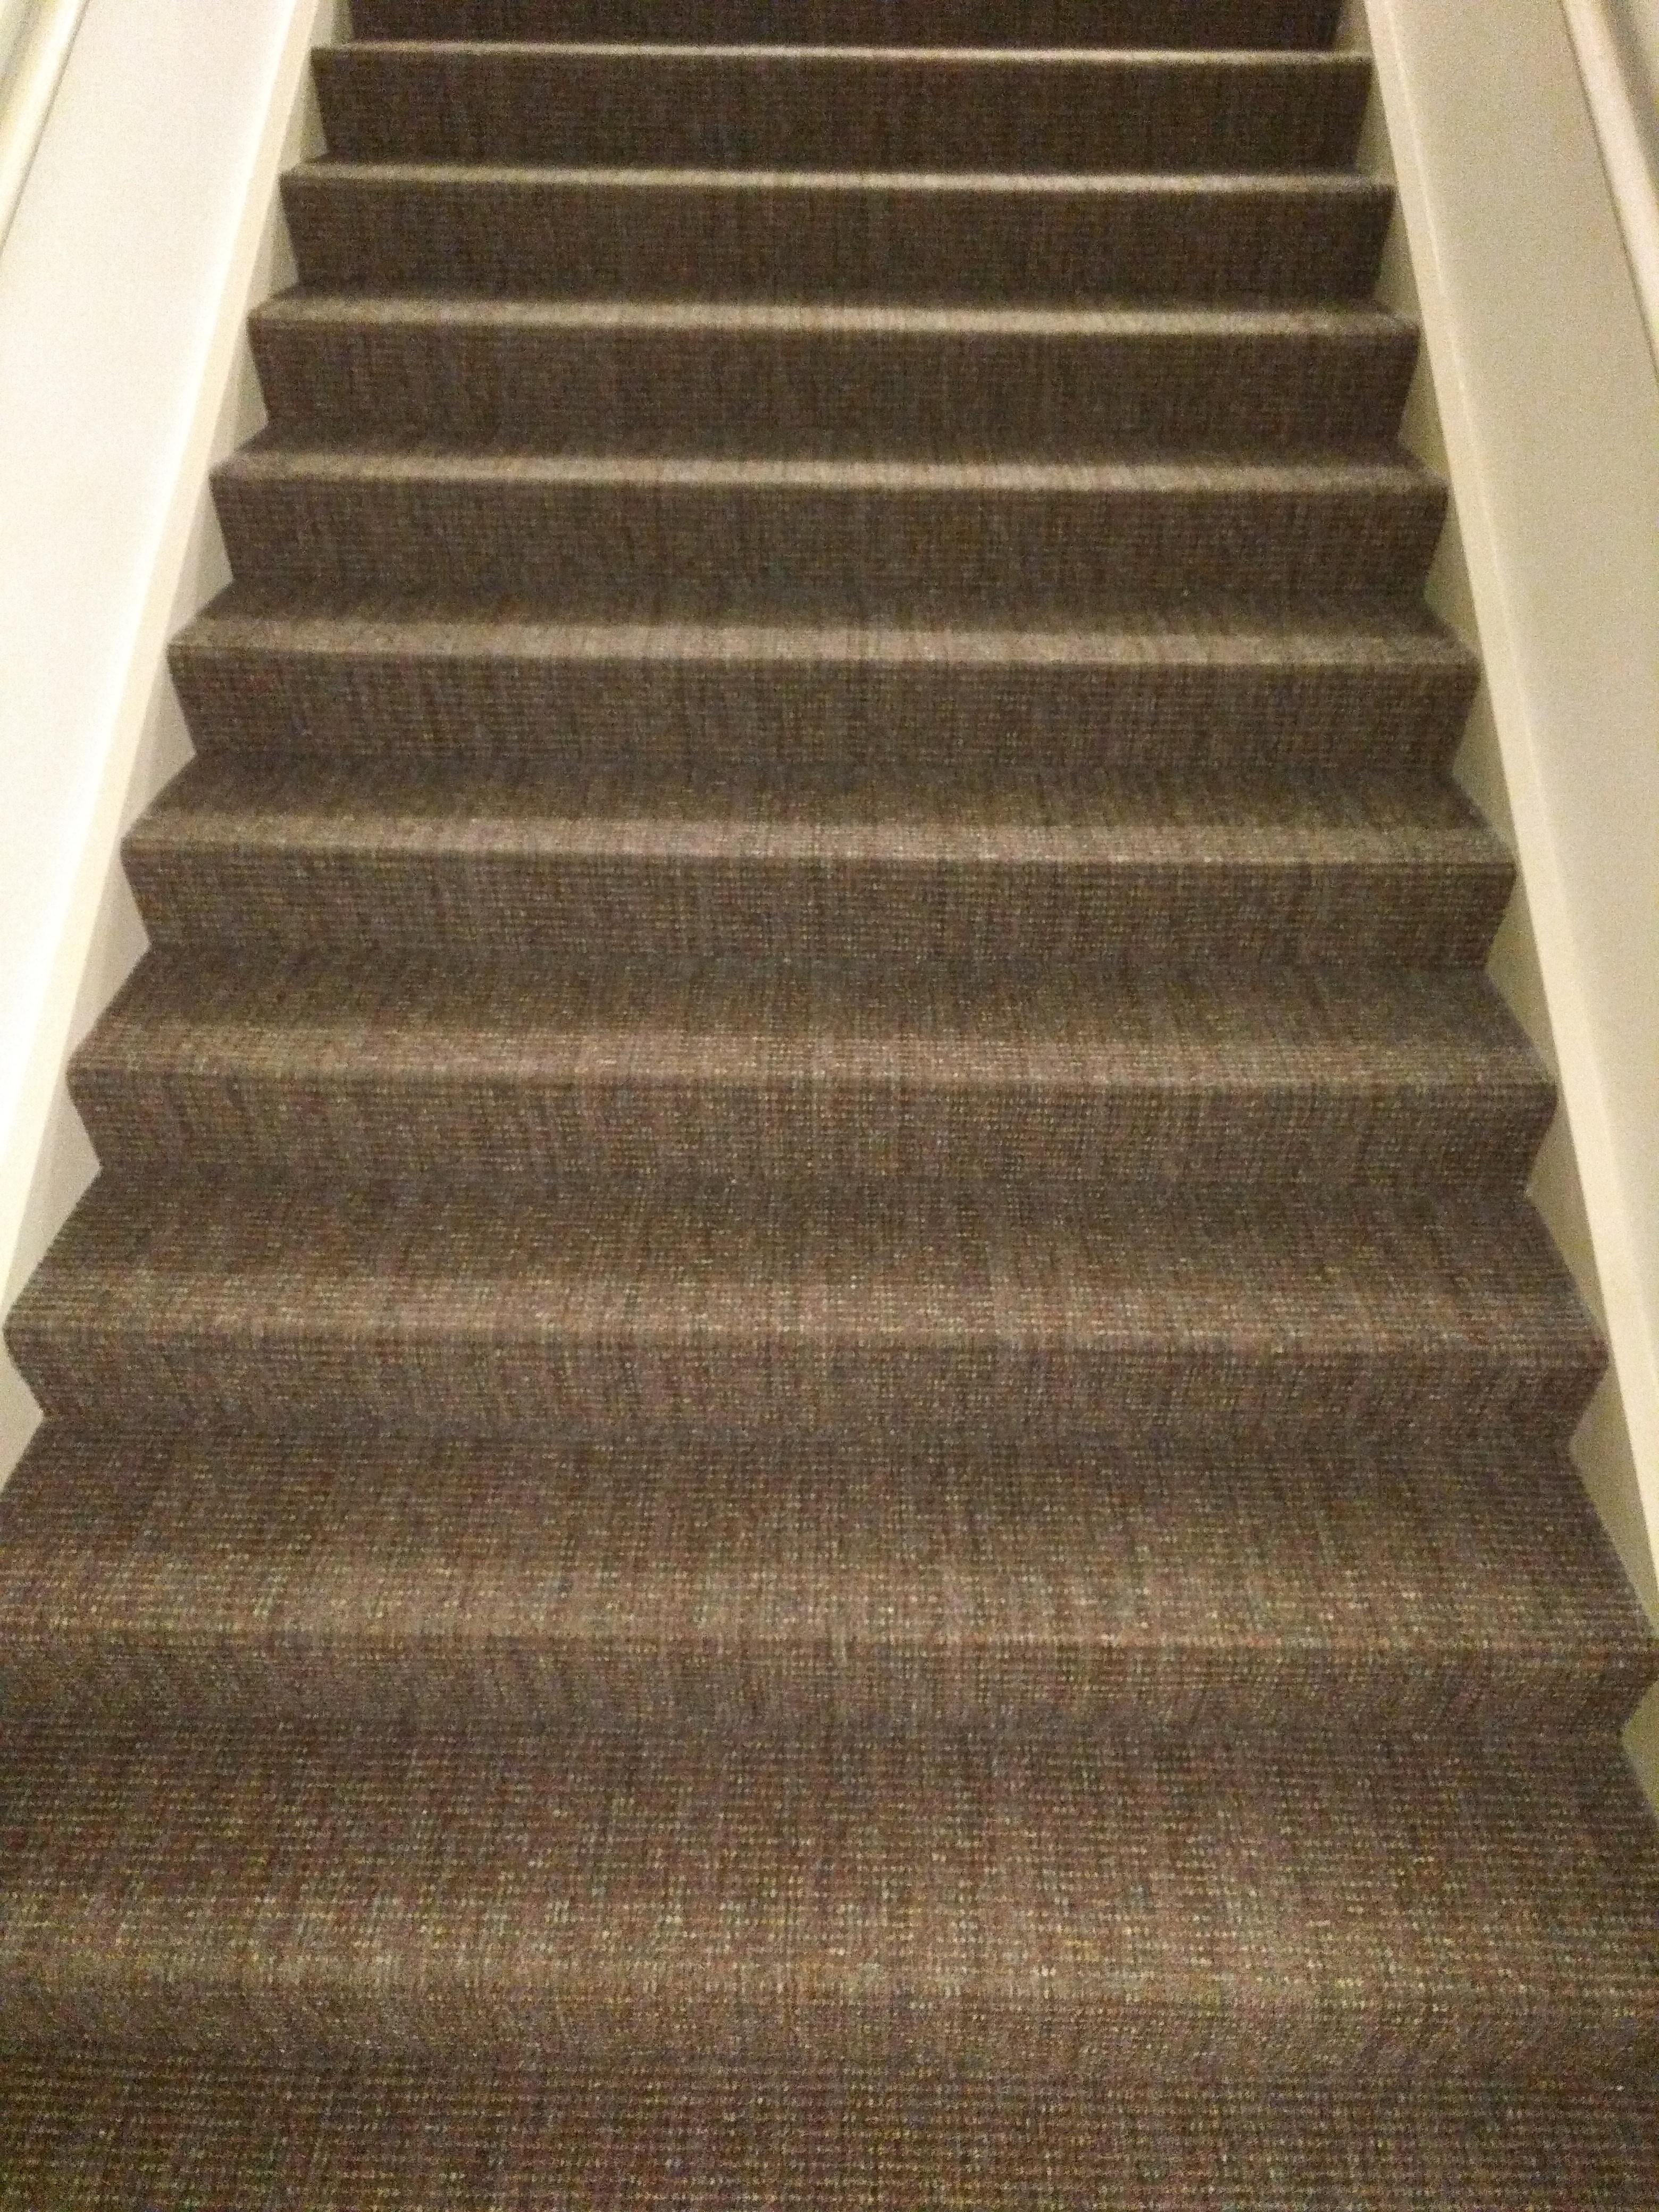stairs_up: (23, 49, 1659, 2076)
